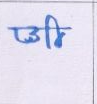i_matra: (49, 15, 64, 47)
